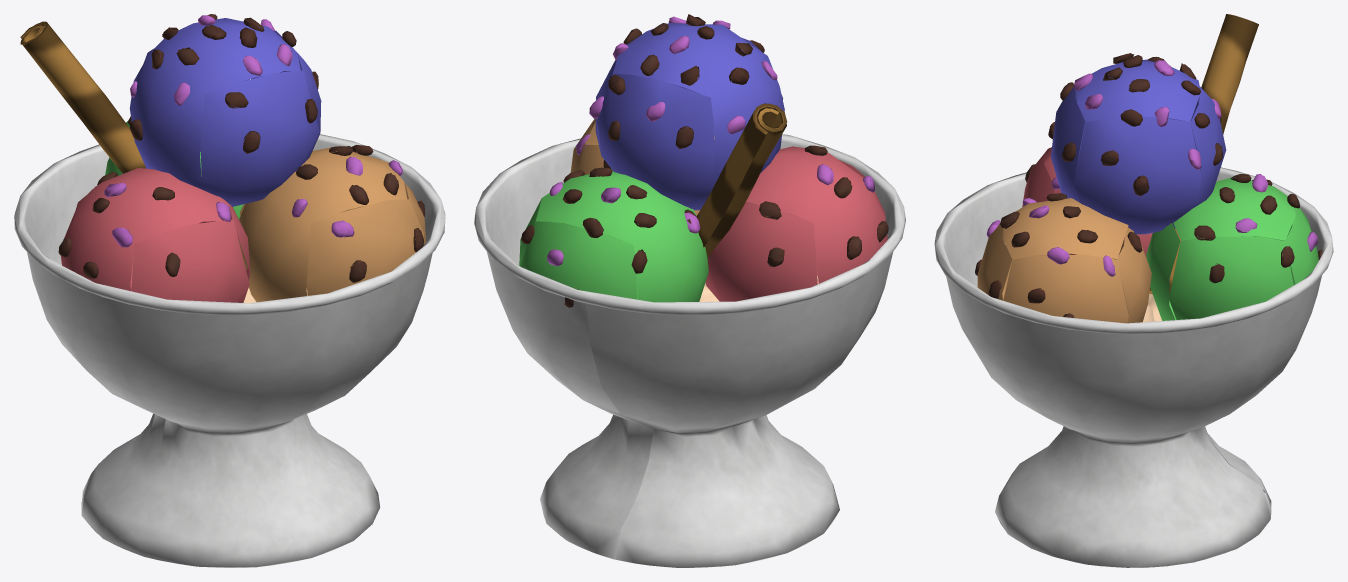
The model's file is ice_cream.glb.
3 renders of one model, left to right at view 1: azimuth 30°, elevation 25°; view 2: azimuth 150°, elevation 25°; view 3: azimuth 270°, elevation 25°, orthographic. The views are drawn at different scales.
Parts seen in each view (by area): view 1: Object_2; view 2: Object_2; view 3: Object_2.
Part boxes in pixels (left/top/right/bottom): Object_2: left=14, top=14, right=445, bottom=567; Object_2: left=474, top=14, right=905, bottom=567; Object_2: left=934, top=14, right=1333, bottom=567.
Bounding box in the file's own units: 11.04 × 13.68 × 11.04.
Materials: 2 (2 with a texture image).
